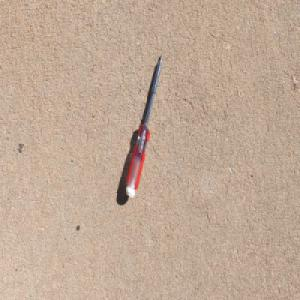Screwdriver: (125, 51, 164, 199)
